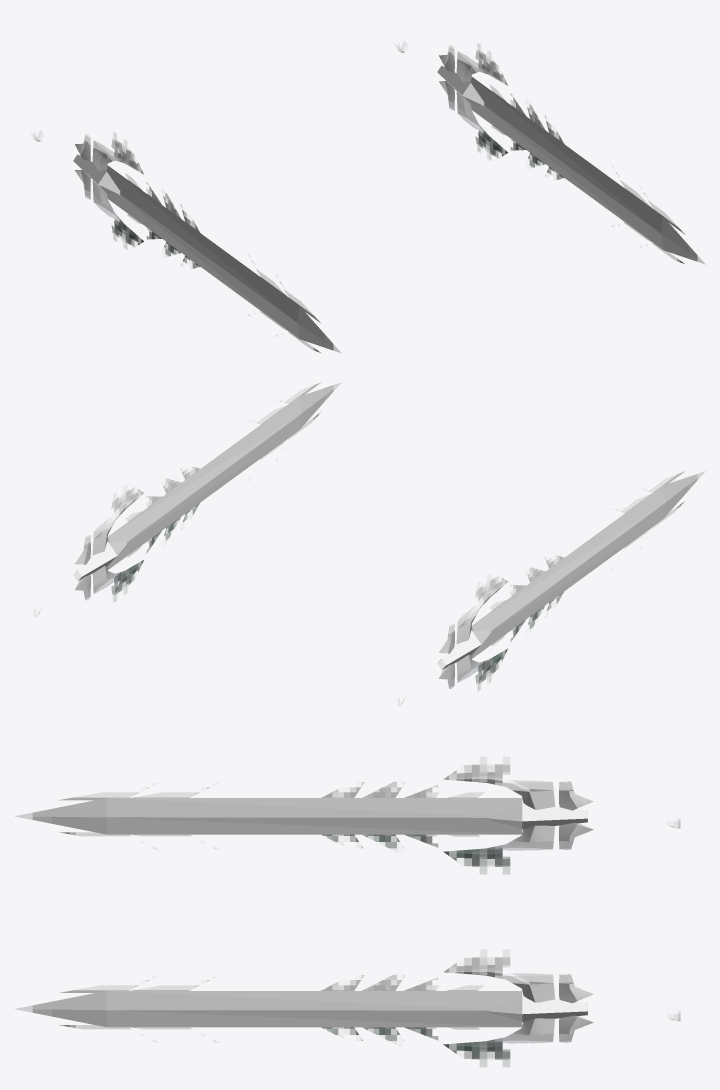
The model's file is mg_weapon_dual_elemental.glb.
3 renders of one model, top to bottom at view 1: azimuth 30°, elevation 25°; view 2: azimuth 150°, elevation 25°; view 3: azimuth 270°, elevation 25°, orthographic. The views are drawn at different scales.
Visible parts, largest first — view 1: module_MG_weapon_dual_elemental, mesh_0_dual_left, mesh_1_dual_left; view 2: module_MG_weapon_dual_elemental, mesh_0_dual_left, mesh_1_dual_left; view 3: module_MG_weapon_dual_elemental, mesh_0_dual_left, mesh_1_dual_left.
Boxes of the visible parts, x1,y1,x2,y2 form: module_MG_weapon_dual_elemental: (398, 43, 705, 264); mesh_0_dual_left: (33, 132, 340, 352); mesh_1_dual_left: (126, 174, 321, 353); module_MG_weapon_dual_elemental: (33, 382, 340, 617); mesh_0_dual_left: (397, 471, 705, 705); mesh_1_dual_left: (490, 471, 685, 645); module_MG_weapon_dual_elemental: (16, 949, 680, 1066); mesh_0_dual_left: (15, 757, 680, 874); mesh_1_dual_left: (59, 782, 483, 848).
Size of the model in its own units: 1.39 by 0.4299 by 2.
Materials: 2 (2 with a texture image).
